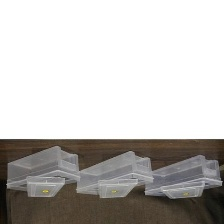plastic_box: (0, 142, 84, 202), (70, 146, 157, 203), (139, 151, 224, 203)
